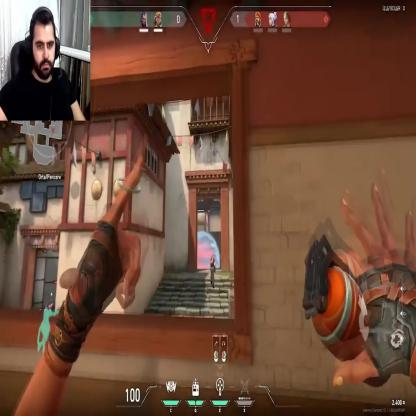enemy: (209, 255, 216, 288)
enemy_head: (210, 255, 212, 260)
